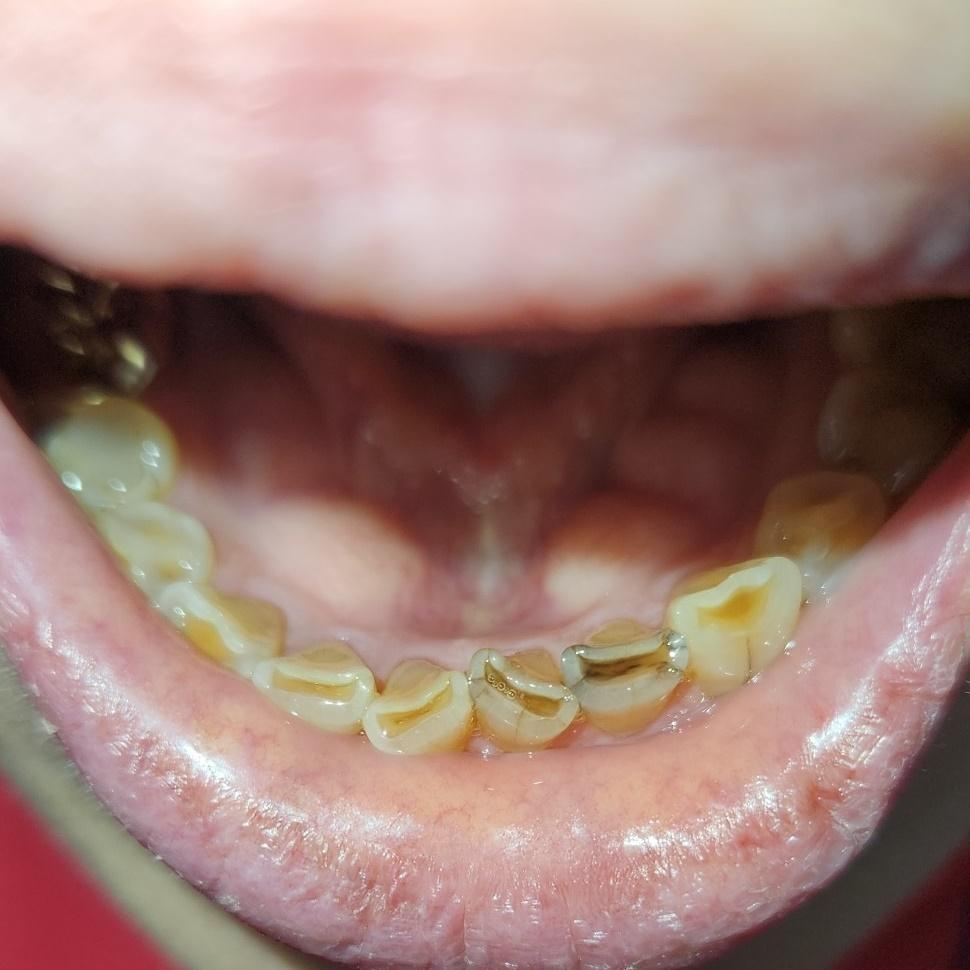Crowding: (365, 638, 571, 758)
